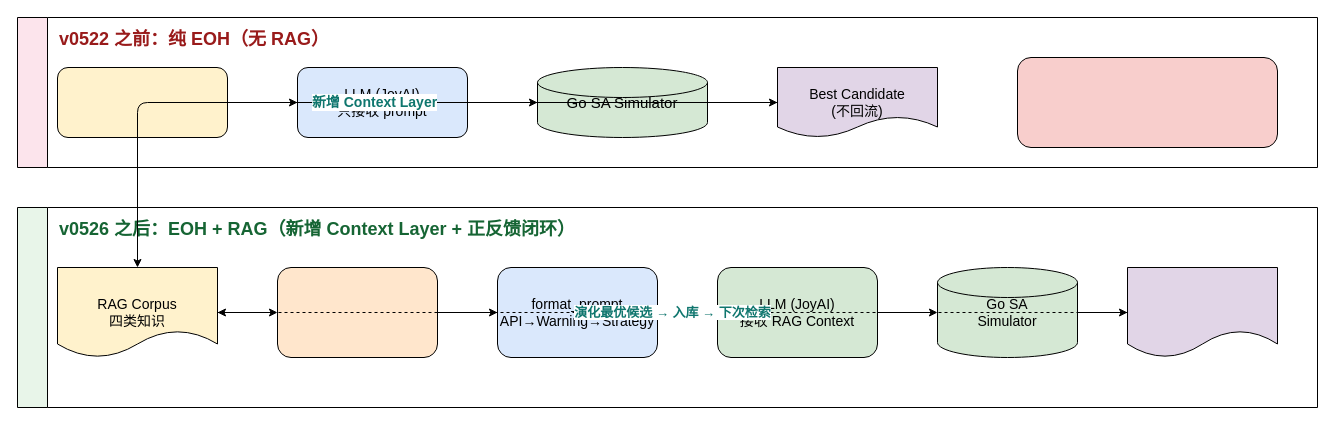
Image size: 1335x425. Some labels were removed from this diagram. Here are the shapes that lost their labels. From the top down, the box of each, then its label:
(56, 66, 228, 138): Greedy SA Seed
(1016, 56, 1278, 148): ✗ 无外部知识注入 ✗ 无上下文控制 ✗ 最优候选不回流
(276, 266, 438, 358): filter + retrieve top_k + max_chars
(1126, 266, 1278, 358): Best Candidate + 入库 corpus
